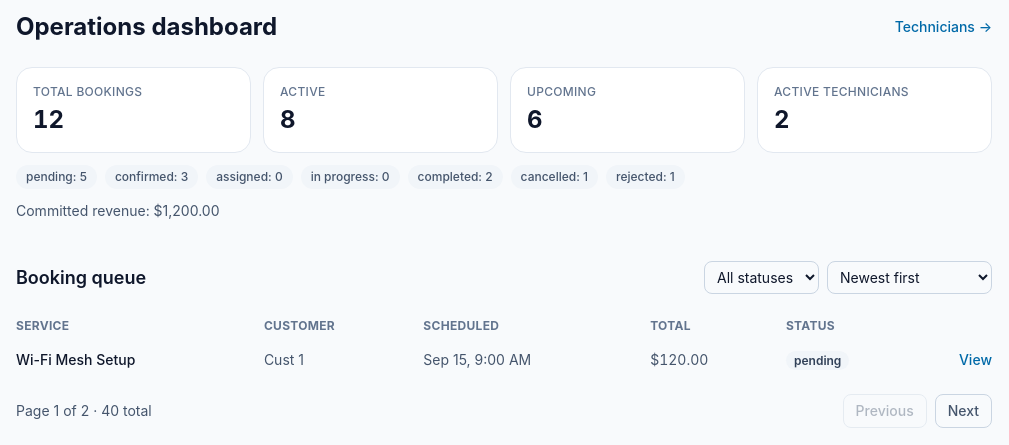
Test: OperationsDashboardPage › paginates the queue
Expected: the text "Cust 1" is shown, [264,342,423,378]
What coordinates should you click on to do the following:
click the button "Next"
I would click on:
 (963, 411)
Its box is [935,394,992,428].
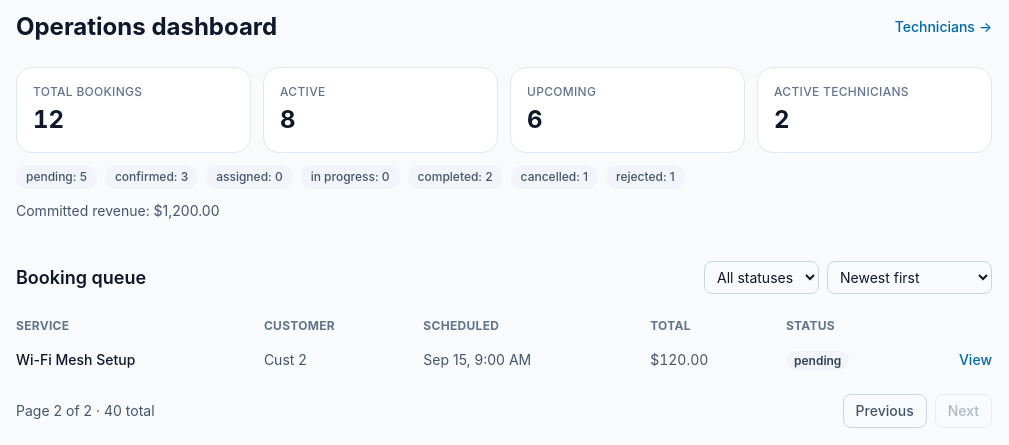
Result: the text "Cust 2" is shown at [264,342,423,378]
